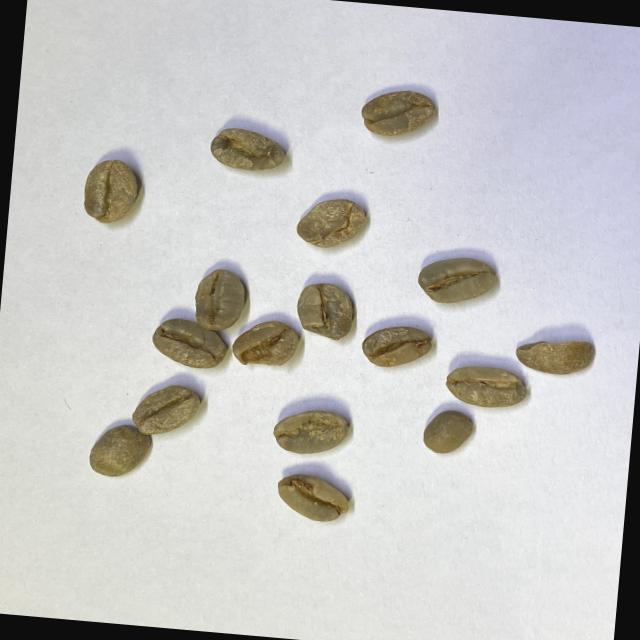bad: (269, 403, 354, 460), (292, 194, 368, 252), (273, 470, 352, 525), (292, 281, 358, 342), (206, 126, 288, 174), (512, 333, 595, 376), (230, 316, 298, 368)
good: (414, 254, 502, 308), (125, 381, 202, 438), (150, 316, 228, 370), (81, 156, 140, 227), (444, 362, 528, 411), (86, 422, 154, 481), (360, 87, 434, 140), (192, 265, 248, 332), (359, 324, 433, 371), (422, 407, 476, 456)
